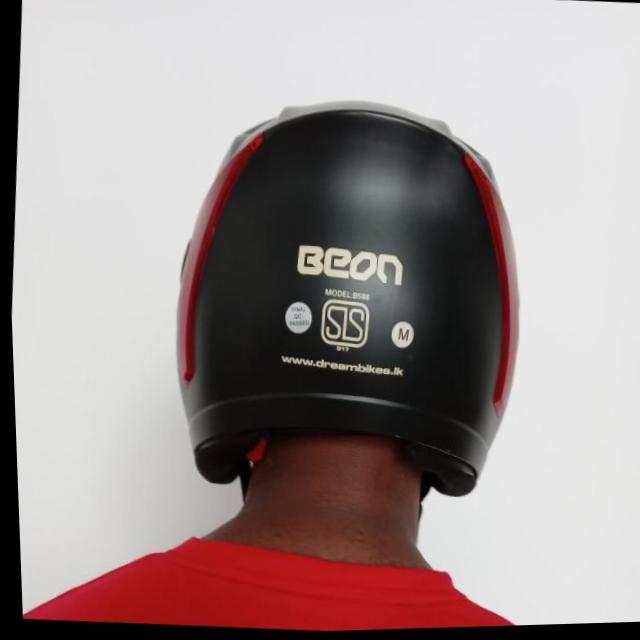helmet: (150, 77, 534, 519)
